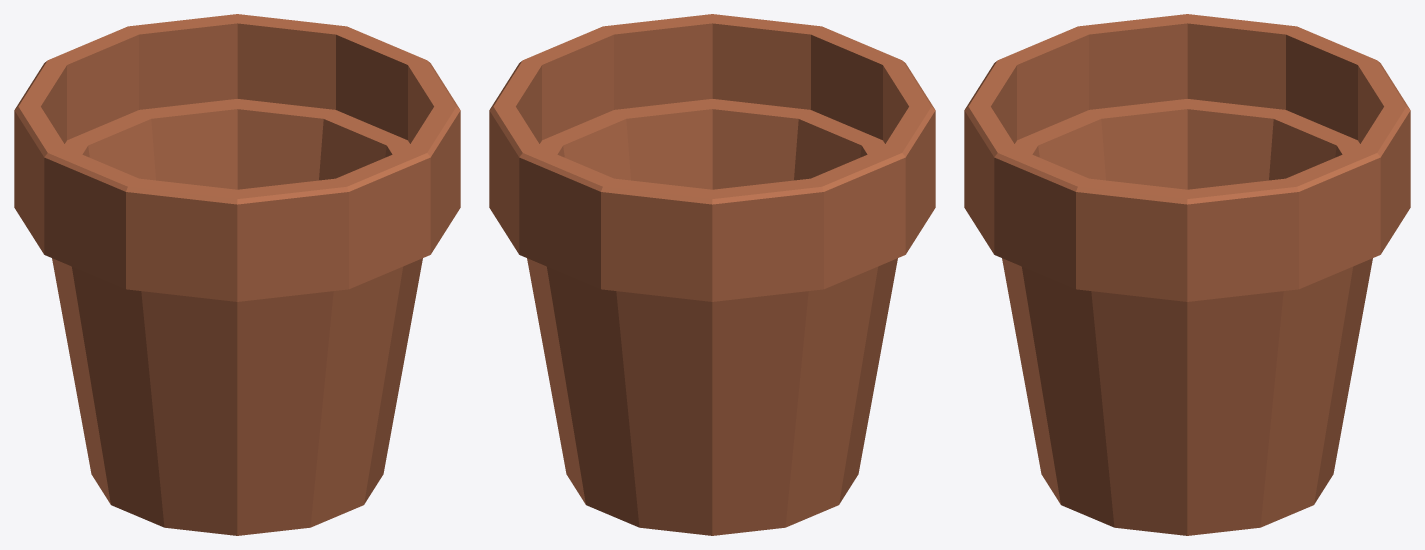
File: flowerpot.glb
3 views of the same model, side by side, from view 1: azimuth 30°, elevation 25°; view 2: azimuth 150°, elevation 25°; view 3: azimuth 270°, elevation 25° (orthographic).
Parts seen in each view (by area): view 1: Empty terracotta pot with drain; view 2: Empty terracotta pot with drain; view 3: Empty terracotta pot with drain.
Part boxes in pixels (x1=…): Empty terracotta pot with drain: x1=14, y1=14, x2=460, y2=535; Empty terracotta pot with drain: x1=489, y1=14, x2=935, y2=535; Empty terracotta pot with drain: x1=964, y1=14, x2=1410, y2=535.
Size of the model in its own units: 0.22 by 0.2 by 0.22.
